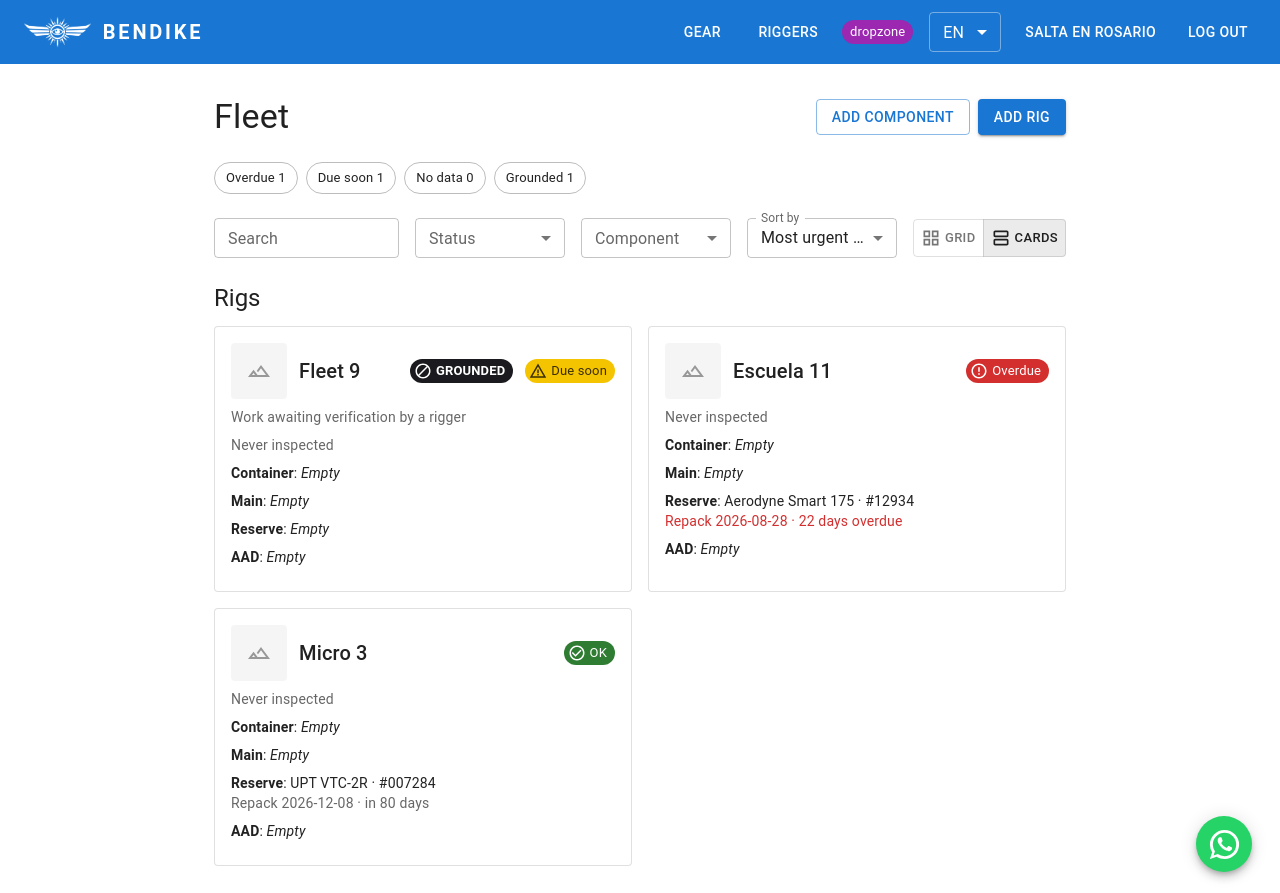
Scenario: GearPage › clicking a summary count filters the list to that status
Expected: the link "Escuela 11" is shown, [733,359,832,383]
Step 1. Click the button "Overdue 1" → (256, 178), box [214,162,298,194]
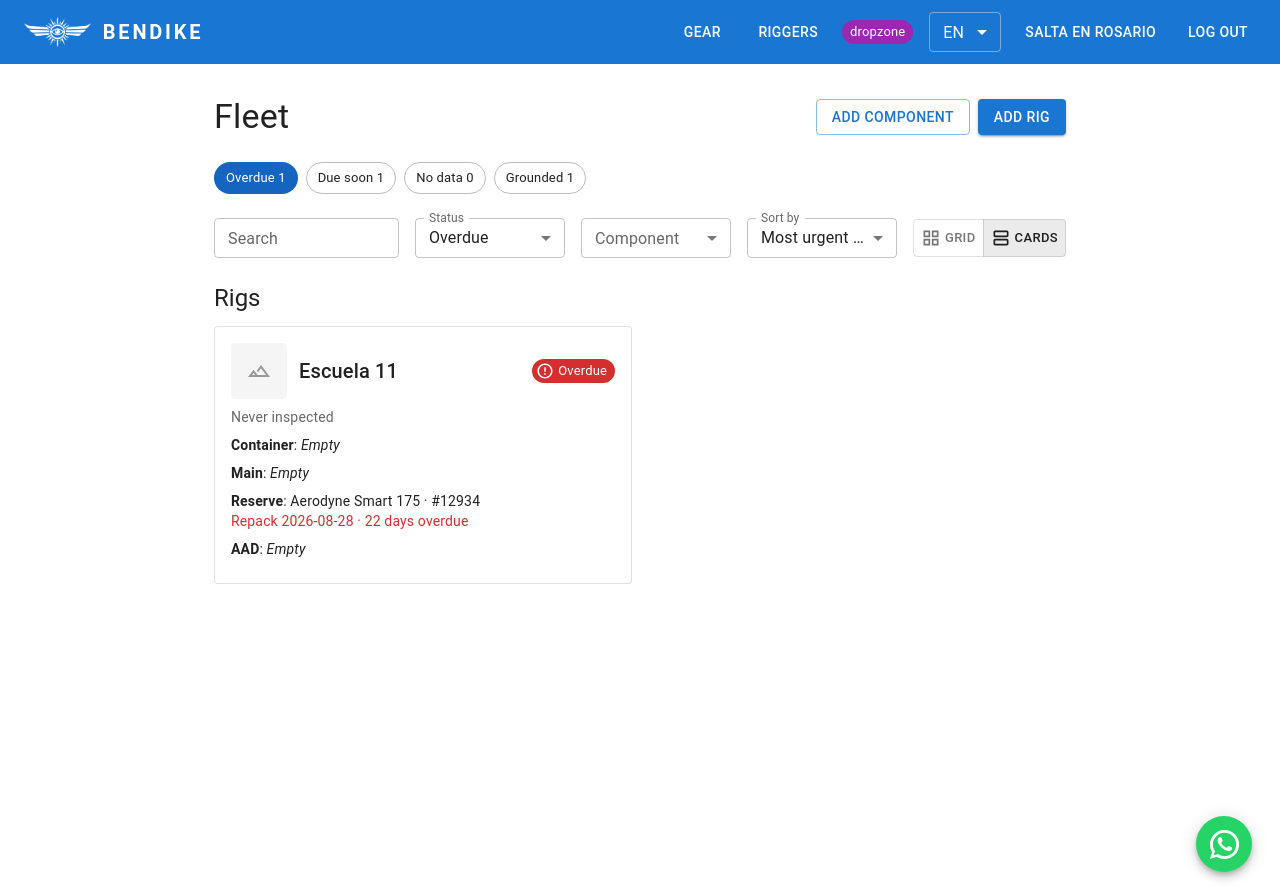
Expected: the link "Escuela 11" is shown, [299,359,398,383]
Expected: the link "Micro 3" is gone
